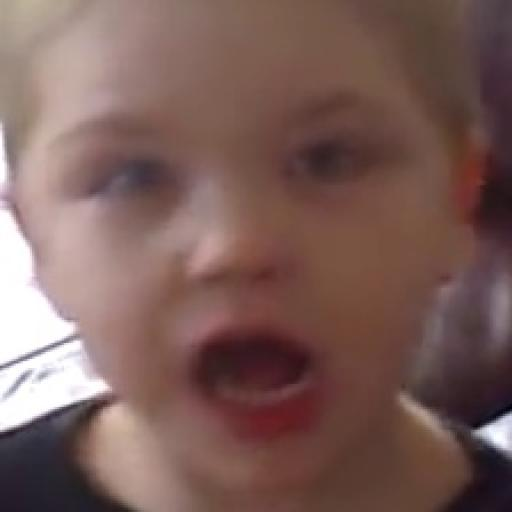Autism: (4, 0, 473, 510)
